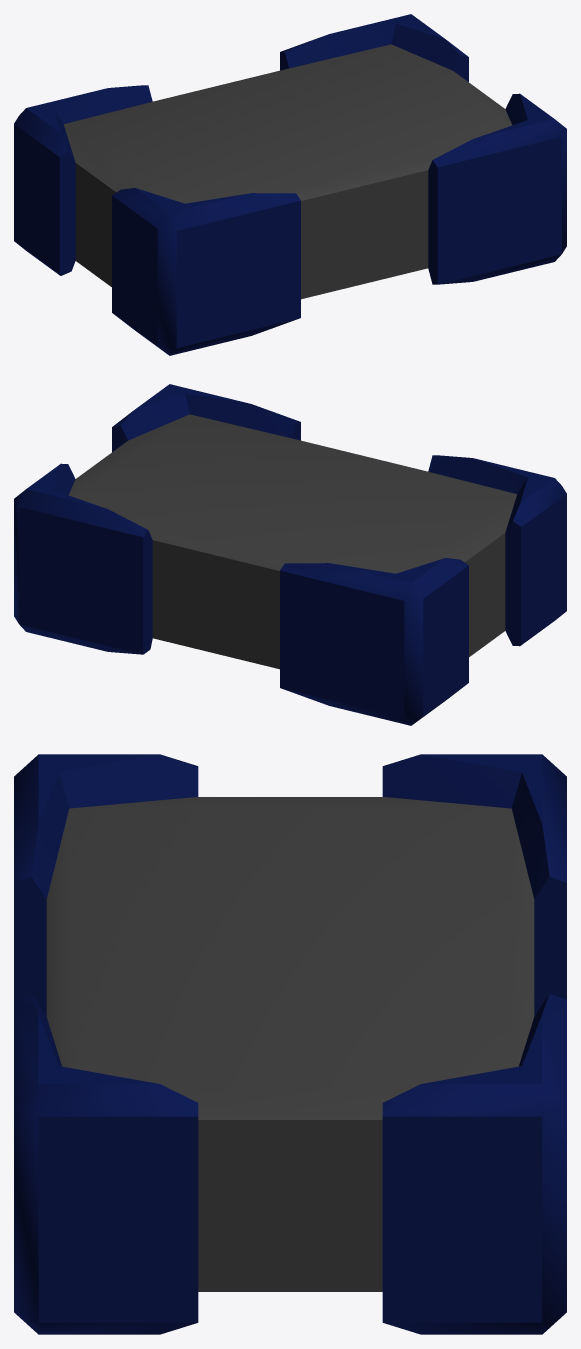
The model's file is ammobox.fbx.
The picture shows the model from 3 angles, top to bottom: view 1: azimuth 30°, elevation 25°; view 2: azimuth 150°, elevation 25°; view 3: azimuth 270°, elevation 25°; orthographic projection. The views are drawn at different scales.
Visible parts, largest first — view 1: Cube; view 2: Cube; view 3: Cube.
Part boxes in pixels (x1,y1,x2,y2): Cube: [14, 14, 566, 355]; Cube: [14, 384, 566, 725]; Cube: [14, 754, 566, 1334].
Bounding box in the file's own units: 30 × 10 × 20.
1 material, 1 textured.
